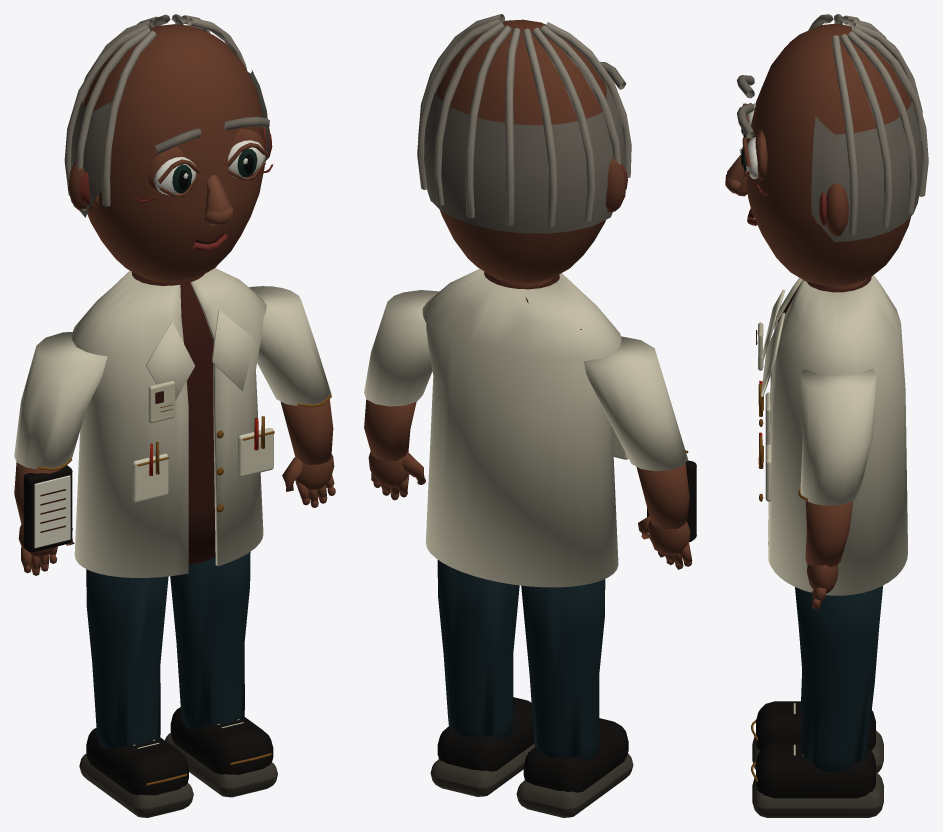
File: doctor-16.glb
3 views of the same model, side by side, from view 1: azimuth 30°, elevation 25°; view 2: azimuth 150°, elevation 25°; view 3: azimuth 270°, elevation 25° (orthographic). The views are drawn at different scales.
Visible parts, largest first — view 1: Body, Head, LegL, LegR, ArmL, ArmR; view 2: Body, Head, LegL, LegR, ArmL, ArmR; view 3: Head, Body, LegR, ArmR, LegL.
Part boxes in pixels (x1,y1,x2,y2): Body: [71, 268, 274, 577]; Head: [64, 14, 273, 282]; LegL: [79, 569, 193, 817]; LegR: [165, 552, 277, 797]; ArmL: [14, 332, 107, 575]; ArmR: [249, 286, 335, 507]; Body: [422, 269, 628, 587]; Head: [417, 14, 631, 287]; LegL: [516, 579, 633, 817]; LegR: [430, 560, 534, 796]; ArmL: [584, 336, 696, 569]; ArmR: [364, 290, 439, 500]; Head: [725, 14, 928, 289]; Body: [756, 275, 907, 595]; LegR: [751, 586, 883, 817]; ArmR: [798, 369, 876, 609]; LegL: [751, 670, 883, 772].
Size of the model in its own units: 0.6312 by 1.45 by 0.3505.
